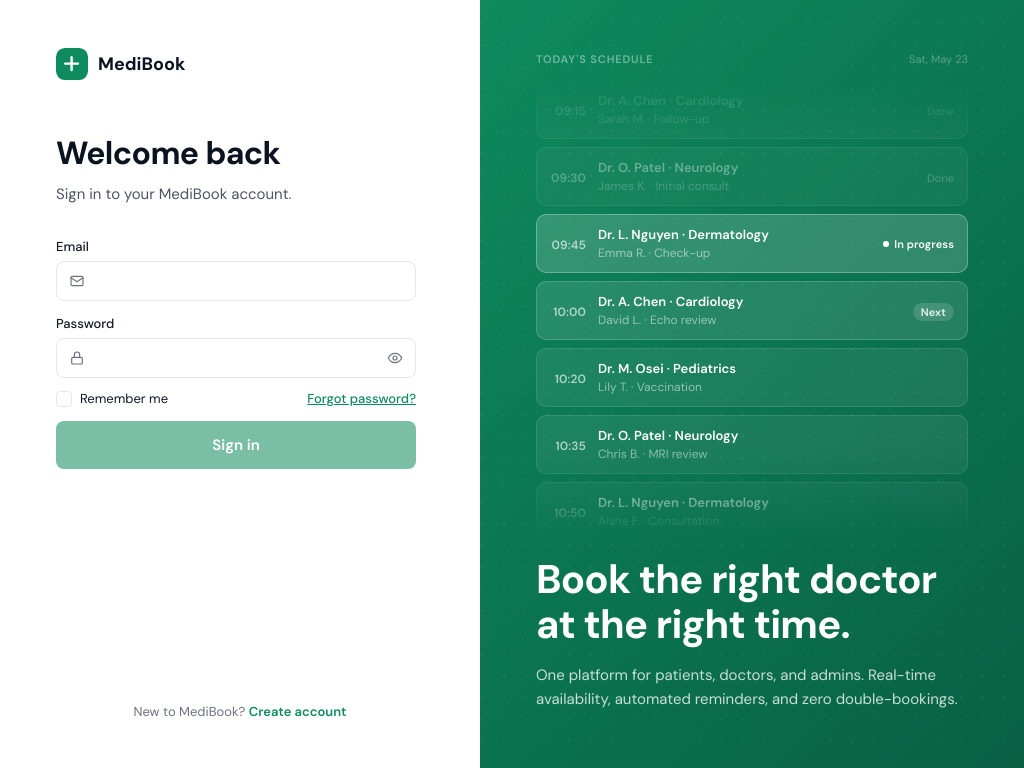
Test case: Authentication Integration Tests › Login Flow › should show 2FA prompt when two factor is required
The image size is (1024, 768).
Type "user@test.com" into the field labelled "Email" at (250, 281), box [85, 262, 415, 300]
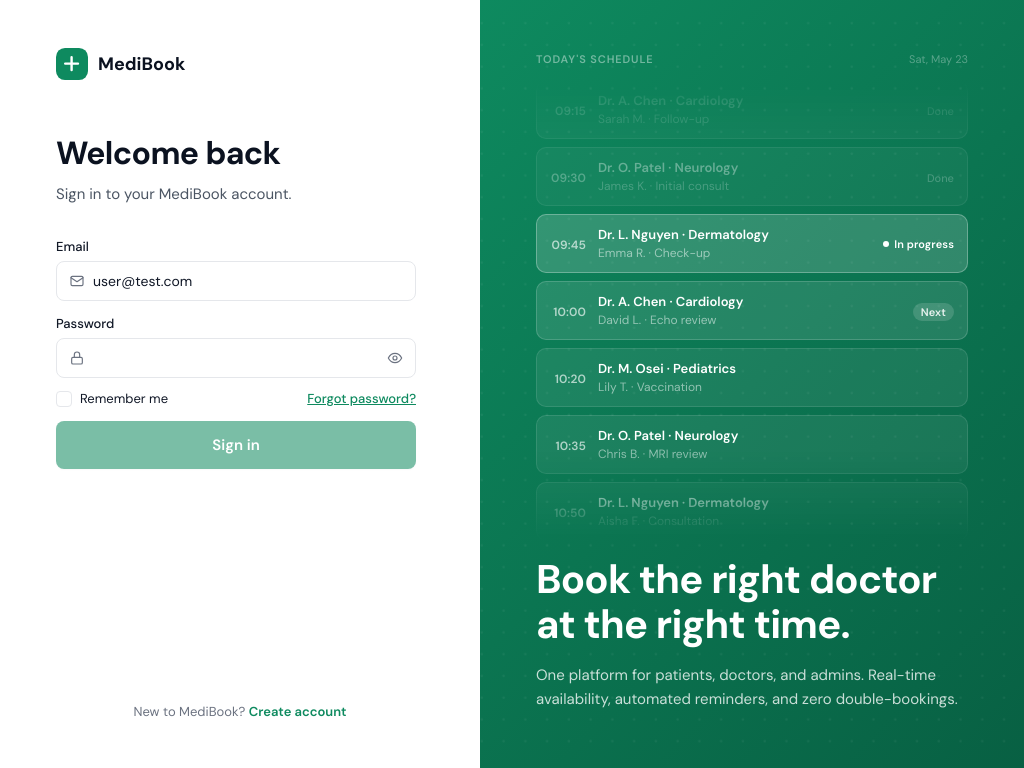
Type "Password123!" into the password field labelled "Password" at (236, 358), box [85, 339, 387, 377]
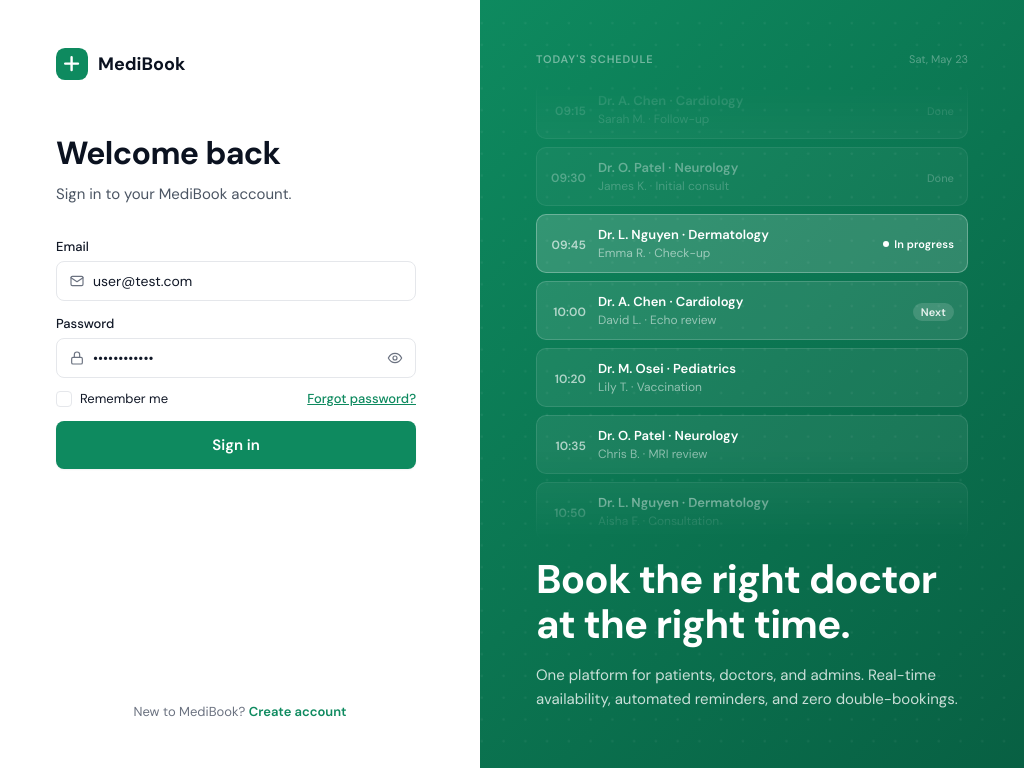
Click the button "Sign in" at (236, 445), box [56, 421, 416, 469]
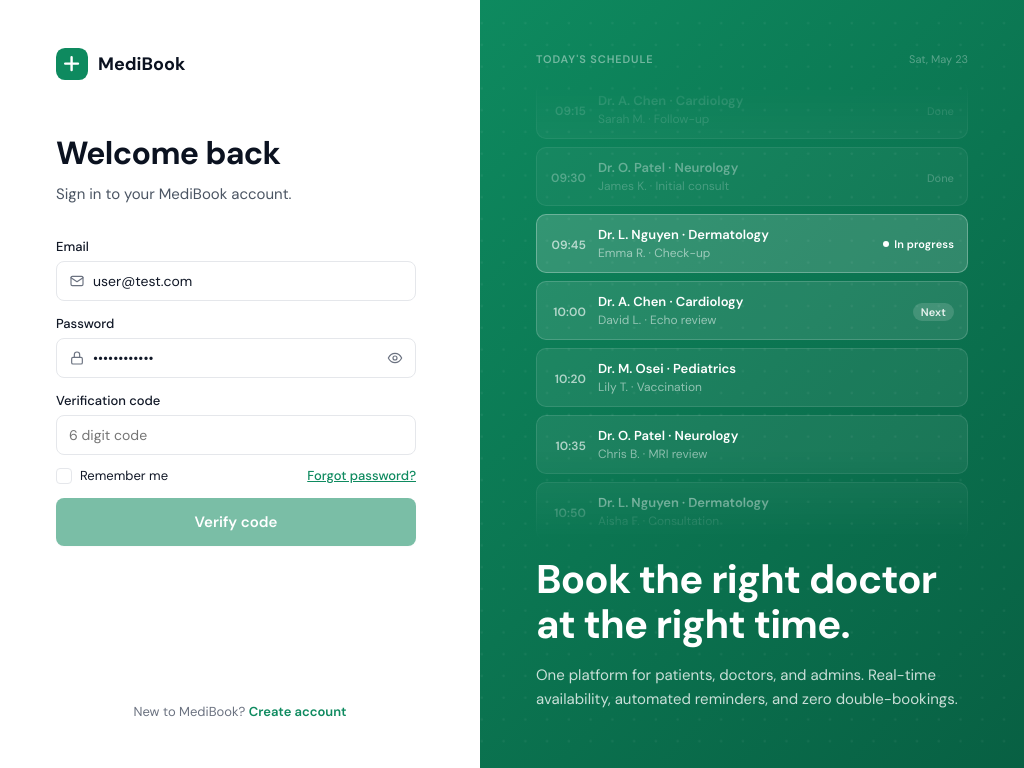
Result: the text "Verification code" is shown at [56, 392, 160, 409]
